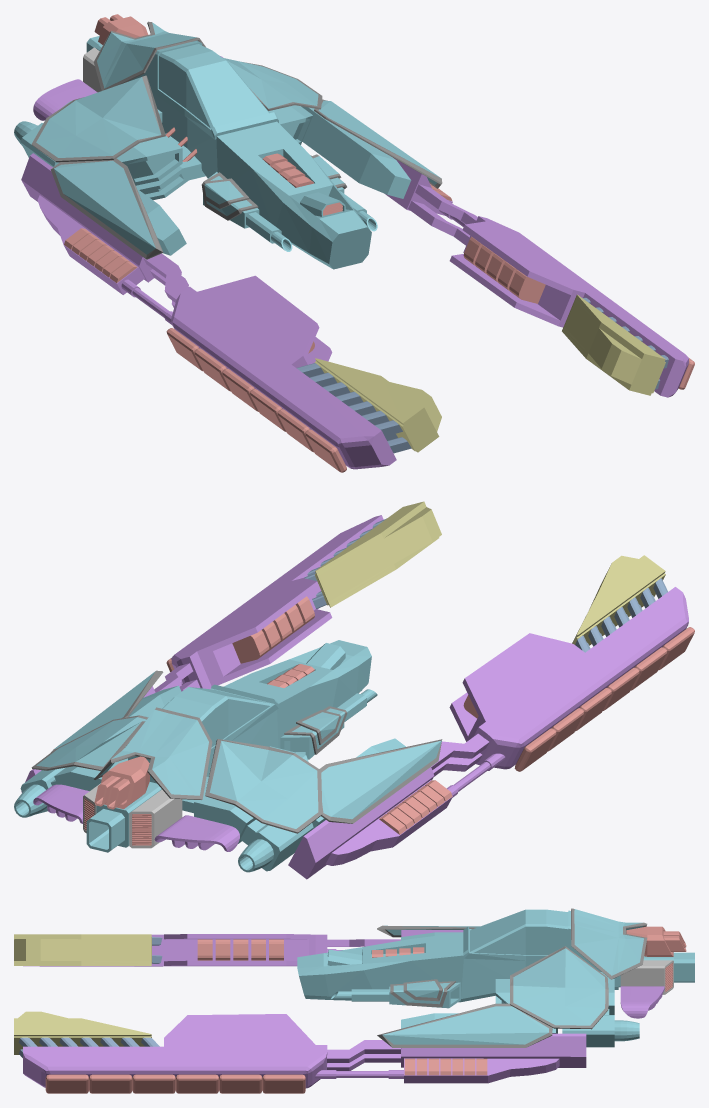
The model's file is sci_fi_ship.DAE.
3 views of the same model, one above another, from view 1: azimuth 30°, elevation 25°; view 2: azimuth 150°, elevation 25°; view 3: azimuth 270°, elevation 25° (orthographic). The views are drawn at different scales.
Parts seen in each view (by area): view 1: front-arms, cockpit, armor-panels.001, wings, front-arm-separated, armor-panels, front-arm-detail, front-arm-separated-supports, front-arm-slot-detail, wings-detail, guns, fin-carbon-fiber (+2 smaller); view 2: front-arms, armor-panels.001, cockpit, front-arm-separated, wings, armor-panels, front-arm-detail, fin-carbon-fiber, front-arm-slot-detail, rear-center-engine, front-arm-separated-supports, wings-detail (+3 smaller); view 3: front-arms, cockpit, armor-panels.001, front-arm-separated, front-arm-detail, armor-panels, wings, front-arm-slot-detail, wings-detail, rear-center-engine, front-arm-separated-supports, fin-carbon-fiber (+3 smaller).
Part boxes in pixels (x1,y1,x2,y2): front-arms: [21, 153, 688, 469]; cockpit: [86, 36, 371, 269]; armor-panels.001: [36, 22, 440, 254]; wings: [14, 101, 411, 255]; front-arm-separated: [314, 294, 665, 452]; armor-panels: [31, 21, 442, 259]; front-arm-detail: [166, 328, 694, 472]; front-arm-separated-supports: [296, 297, 668, 453]; front-arm-slot-detail: [308, 236, 545, 353]; wings-detail: [64, 184, 452, 283]; guns: [203, 172, 377, 251]; fin-carbon-fiber: [33, 56, 223, 120]; front-arms: [21, 515, 688, 879]; armor-panels.001: [36, 671, 441, 828]; cockpit: [86, 640, 371, 852]; front-arm-separated: [314, 501, 665, 645]; wings: [14, 685, 405, 872]; armor-panels: [31, 670, 442, 833]; front-arm-detail: [166, 627, 694, 771]; fin-carbon-fiber: [33, 784, 239, 851]; front-arm-slot-detail: [232, 596, 478, 718]; rear-center-engine: [94, 756, 149, 809]; front-arm-separated-supports: [304, 518, 667, 652]; wings-detail: [379, 780, 452, 834]; front-arms: [23, 930, 586, 1088]; cockpit: [297, 909, 694, 1002]; armor-panels.001: [382, 909, 643, 1044]; front-arm-separated: [14, 934, 151, 1054]; front-arm-detail: [45, 1074, 305, 1093]; armor-panels: [377, 908, 647, 1047]; wings: [401, 932, 639, 1047]; front-arm-slot-detail: [197, 939, 283, 960]; wings-detail: [404, 1058, 487, 1075]; rear-center-engine: [626, 926, 686, 956]; front-arm-separated-supports: [18, 937, 162, 1057]; fin-carbon-fiber: [620, 986, 664, 1018].
Bounding box in the file's own units: 494 × 1022 × 185.
